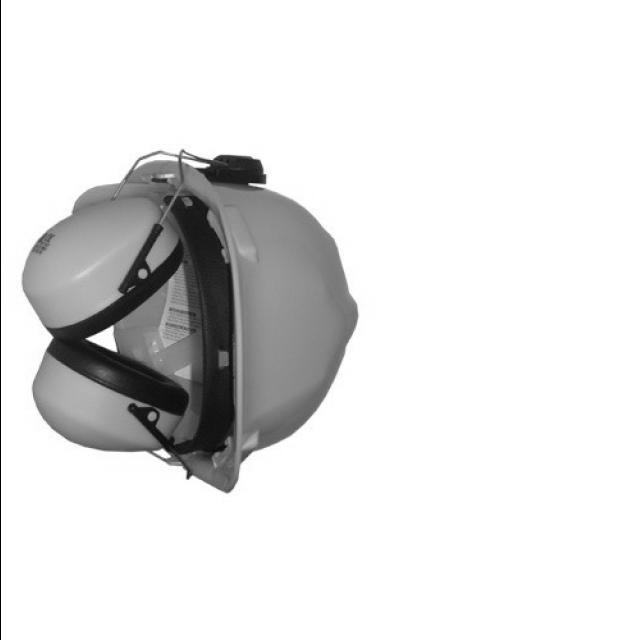safety_helmet: (20, 150, 356, 494)
